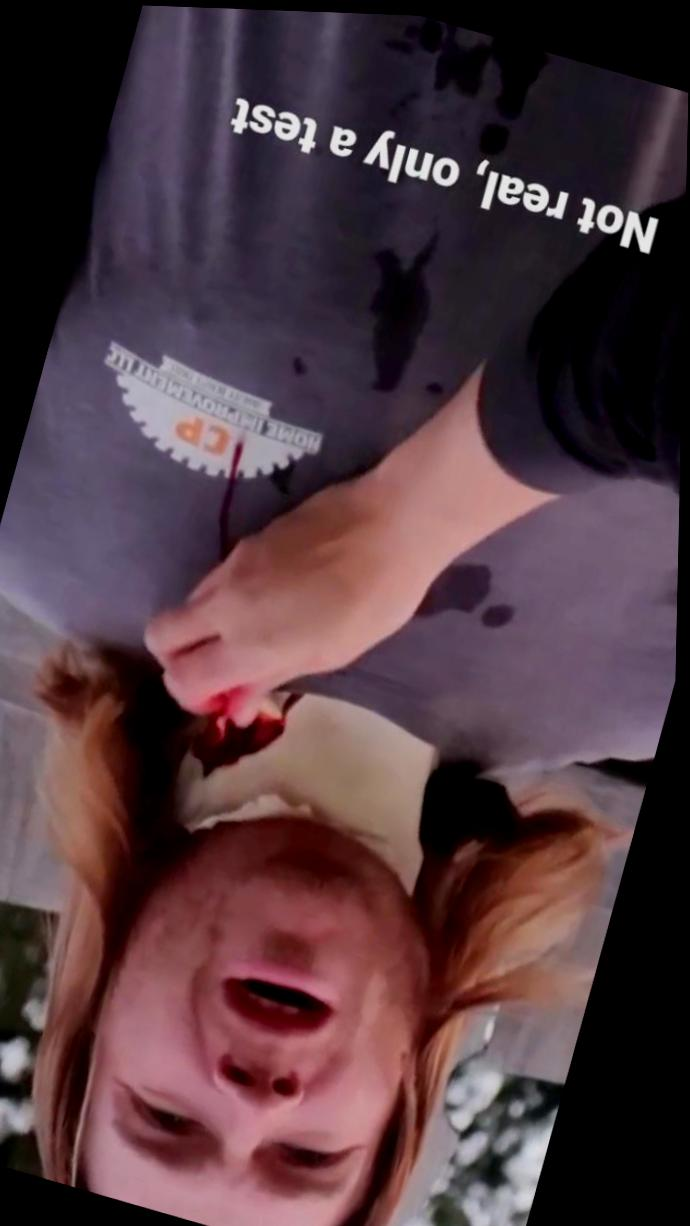Fire: (196, 691, 306, 775)
